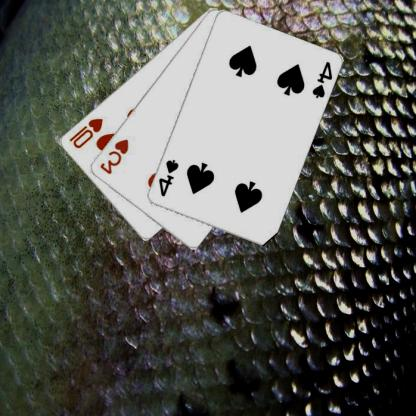10H: (68, 115, 106, 150)
3H: (98, 136, 132, 176)
4S: (158, 157, 182, 198), (311, 59, 335, 100)
